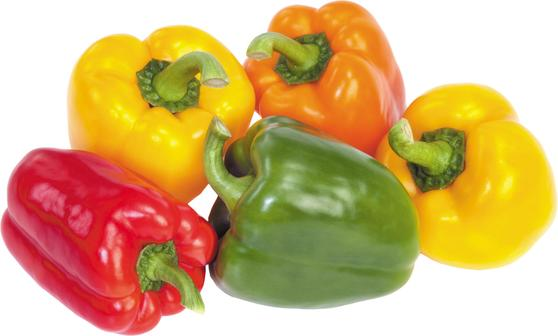pepper: (6, 149, 199, 319)
